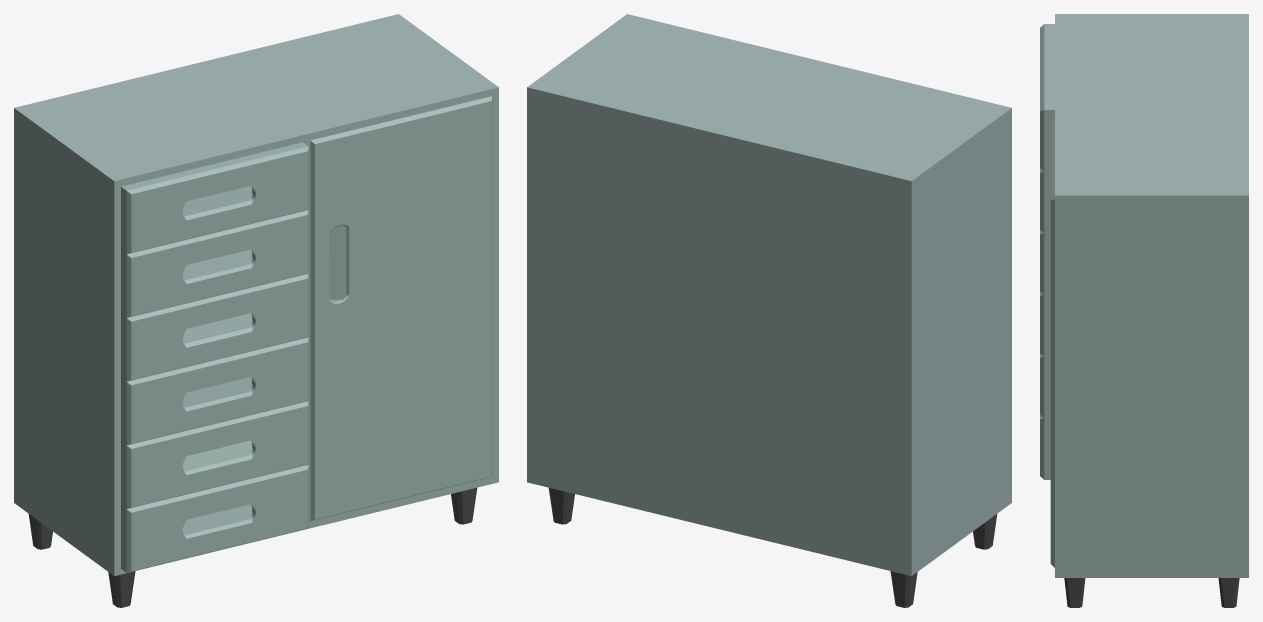
The model's file is SM_Cabinet_01.fbx.
The picture shows the model from 3 angles, left to right: view 1: azimuth 30°, elevation 25°; view 2: azimuth 150°, elevation 25°; view 3: azimuth 270°, elevation 25°; orthographic projection. The views are drawn at different scales.
Parts seen in each view (by area): view 1: SM_Cabinet_01; view 2: SM_Cabinet_01; view 3: SM_Cabinet_01.
Part boxes in pixels (<box>): SM_Cabinet_01: <box>14,14,498,607</box>; SM_Cabinet_01: <box>527,14,1011,607</box>; SM_Cabinet_01: <box>1040,14,1248,607</box>.
Size of the model in its own units: 117 by 127 by 56.96.
